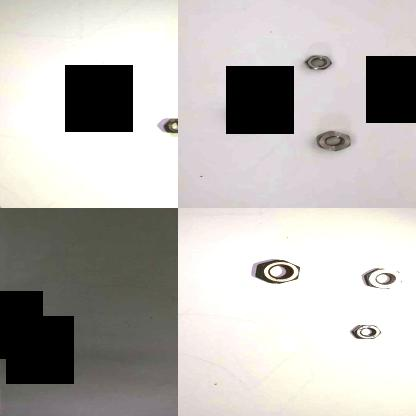NUTS: (252, 254, 306, 286), (232, 101, 278, 128), (362, 266, 408, 290), (315, 128, 355, 152), (302, 52, 334, 72), (350, 322, 384, 340), (159, 114, 178, 136)
